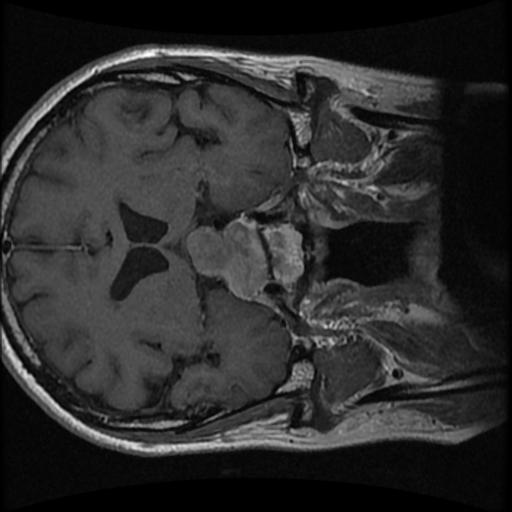pituitary tumour: (187, 222, 267, 300)
